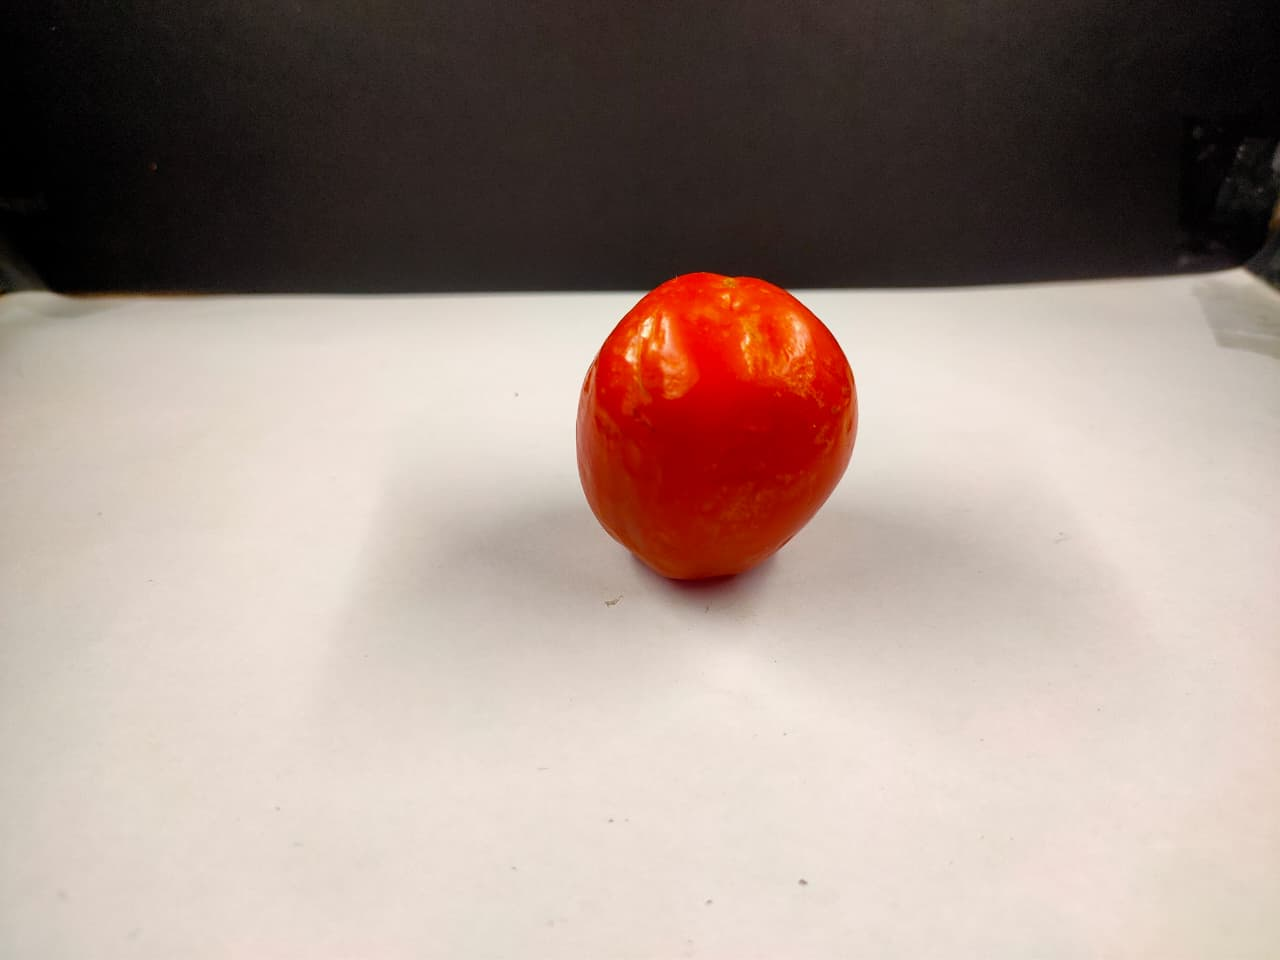damaged: (582, 272, 862, 597)
